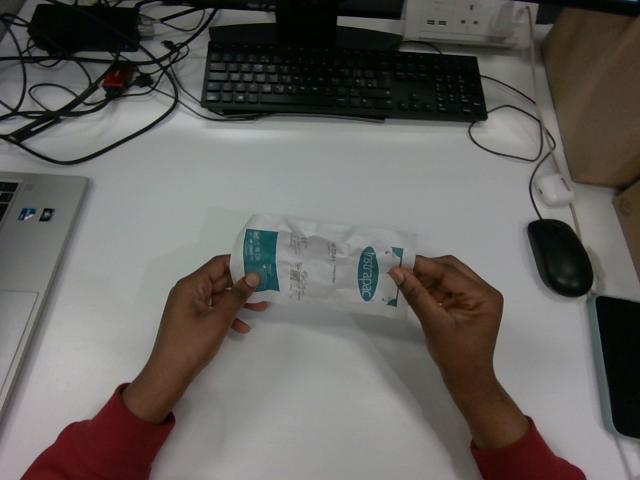gallipot: (230, 215, 416, 317)
